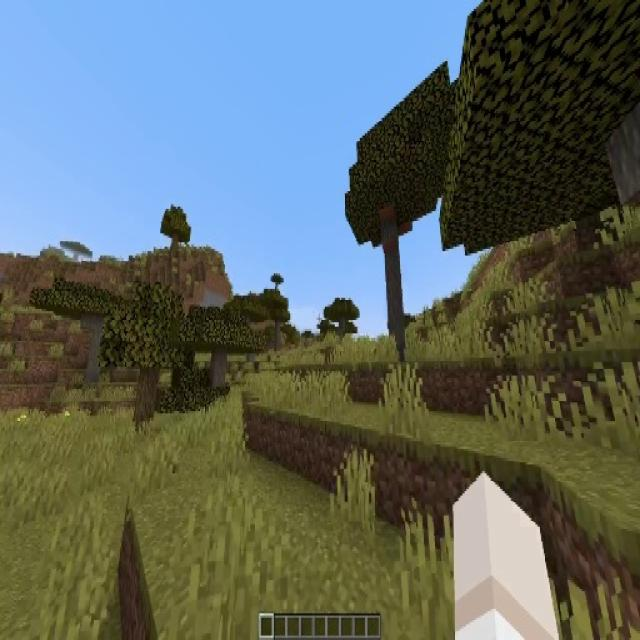acacia: (344, 58, 467, 361), (31, 272, 122, 386), (188, 305, 264, 392)
acacia_log: (382, 222, 408, 359), (87, 317, 100, 381), (211, 350, 226, 383)
oak: (105, 285, 189, 421), (161, 204, 191, 253)
oak_log: (137, 367, 155, 422)
